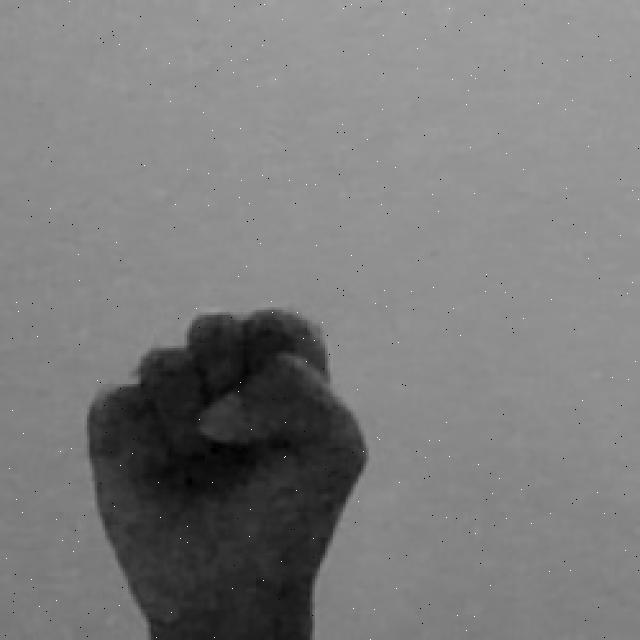S: (79, 299, 376, 640)
